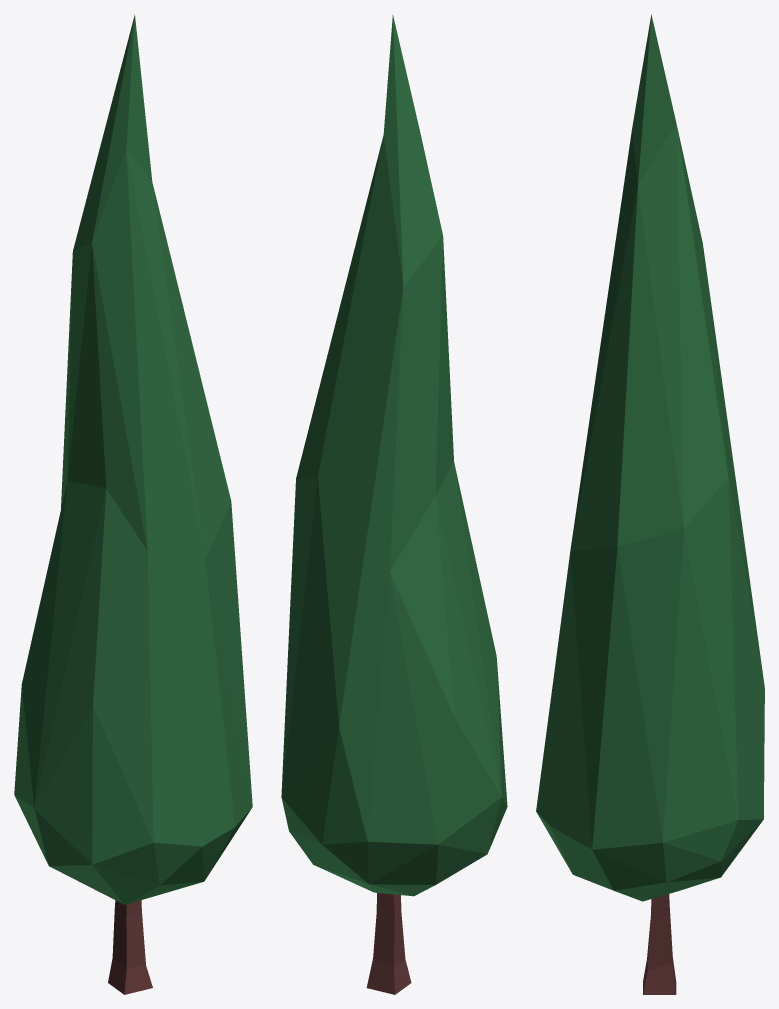
The model's file is Flat_Tree_Cypress_large.glb.
3 views of the same model, side by side, from view 1: azimuth 30°, elevation 25°; view 2: azimuth 150°, elevation 25°; view 3: azimuth 270°, elevation 25° (orthographic).
Parts seen in each view (by area): view 1: Cypress big f; view 2: Cypress big f; view 3: Cypress big f.
Part boxes in pixels (x1,y1,x2,y2): Cypress big f: (14, 14, 252, 994); Cypress big f: (281, 15, 507, 994); Cypress big f: (536, 14, 764, 994).
Bounding box in the file's own units: 4.01 × 18.16 × 3.87.
